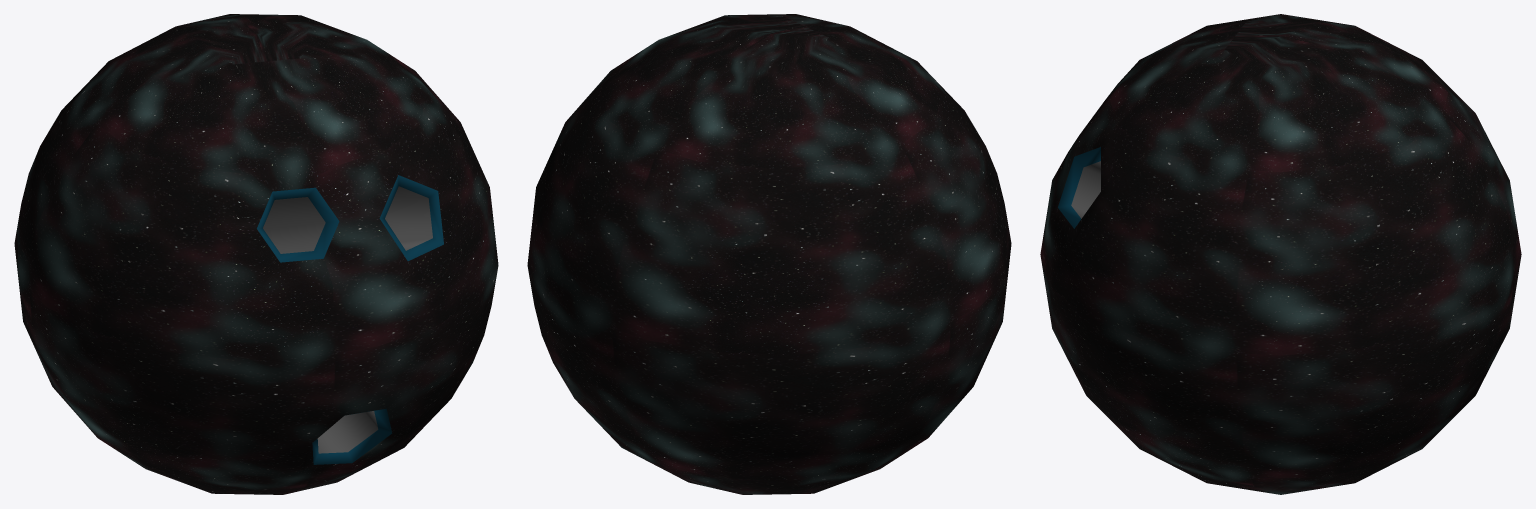
Rendered from Ball.glb.
3 views of the same model, side by side, from view 1: azimuth 30°, elevation 25°; view 2: azimuth 150°, elevation 25°; view 3: azimuth 270°, elevation 25° (orthographic).
Visible parts, largest first — view 1: BowlingBall; view 2: BowlingBall; view 3: BowlingBall.
Part boxes in pixels (x1,y1,x2,y2): BowlingBall: (14, 14, 498, 494); BowlingBall: (527, 14, 1011, 494); BowlingBall: (1040, 14, 1521, 494).
Size of the model in its own units: 0.2172 by 0.2172 by 0.2172.
Materials: 3 (1 with a texture image).
